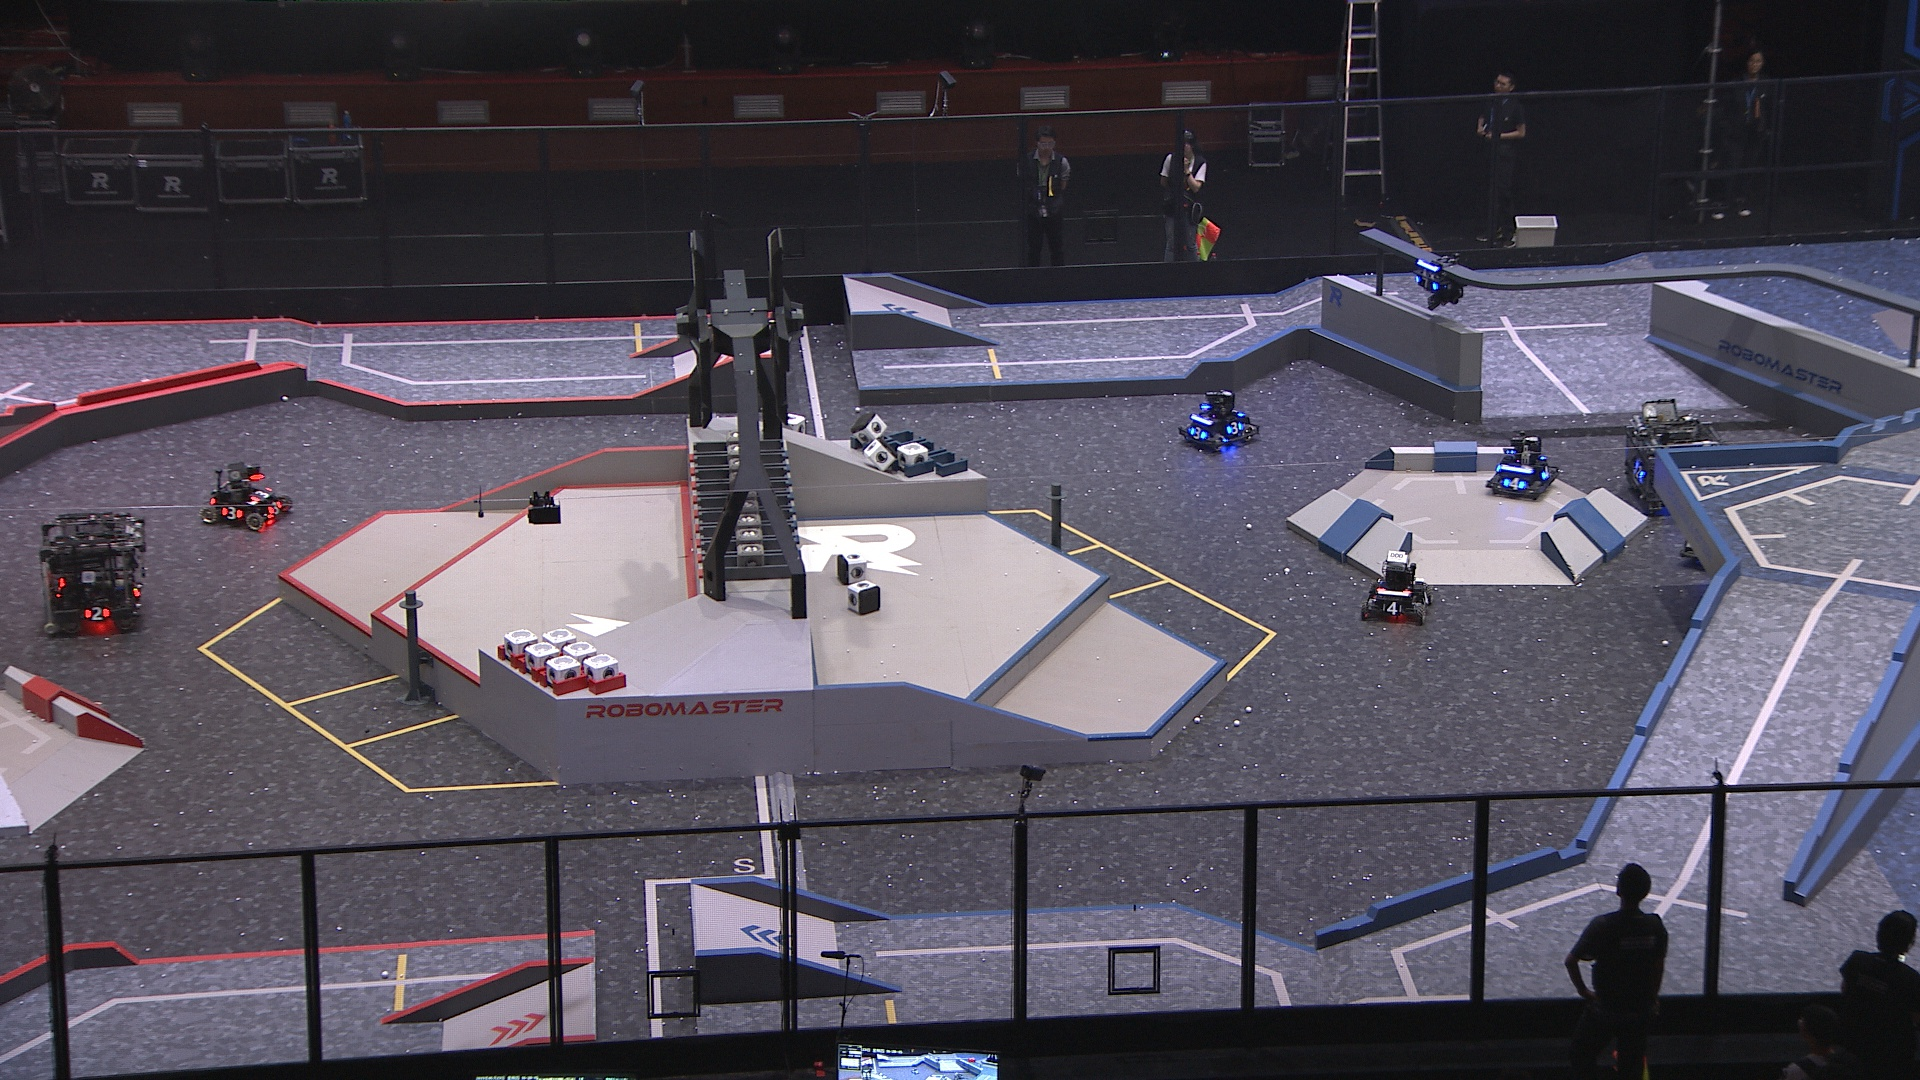armor: (1411, 272, 1439, 295), (1501, 475, 1528, 491), (1379, 600, 1404, 617), (249, 487, 273, 504), (82, 604, 109, 618), (1629, 456, 1644, 480), (1225, 419, 1247, 434), (266, 500, 285, 517), (1188, 425, 1207, 442), (219, 505, 240, 520), (1422, 591, 1433, 609), (1542, 463, 1552, 483)
car: (30, 510, 153, 629), (1622, 396, 1726, 514), (196, 462, 295, 531), (1485, 433, 1565, 501), (1361, 551, 1433, 626), (1179, 386, 1259, 451), (1675, 513, 1746, 574)
watcher: (1408, 252, 1468, 310)
